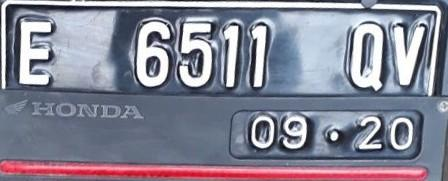clone-license-plate: (0, 0, 441, 165)
